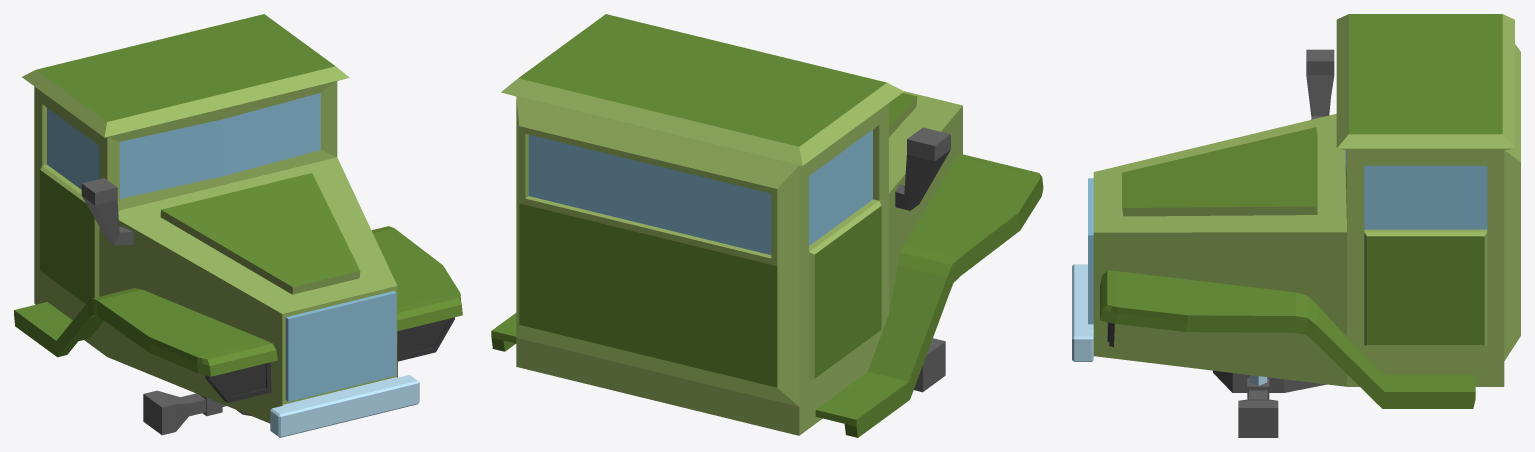
Rendered from ural4320_front_0.glb.
3 renders of one model, left to right at view 1: azimuth 30°, elevation 25°; view 2: azimuth 150°, elevation 25°; view 3: azimuth 270°, elevation 25°, orthographic. The views are drawn at different scales.
Parts seen in each view (by area): view 1: Cube, Cube.001, Cube.003, Cube.005, Cube.002, Cylinder.004, Cube.006; view 2: Cube, Cube.001, Cube.006, Cylinder.004; view 3: Cube, Cube.001, Cylinder.004, Cube.005, Cube.006, Cube.003.
Boxes of the visible parts, <box> form: Cube: <box>22,14,397,423</box>; Cube.001: <box>14,226,462,376</box>; Cube.003: <box>285,291,396,401</box>; Cube.005: <box>270,375,419,437</box>; Cube.002: <box>205,317,454,402</box>; Cylinder.004: <box>143,361,397,435</box>; Cube.006: <box>81,178,133,245</box>; Cube: <box>501,14,962,435</box>; Cube.001: <box>491,153,1043,437</box>; Cube.006: <box>895,127,950,210</box>; Cylinder.004: <box>914,338,945,392</box>; Cube: <box>1093,14,1520,386</box>; Cube.001: <box>1100,270,1475,408</box>; Cylinder.004: <box>1213,370,1326,437</box>; Cube.005: <box>1072,264,1093,361</box>; Cube.006: <box>1306,49,1334,119</box>; Cube.003: <box>1088,178,1093,324</box>.
Size of the model in its own units: 1.16 by 1.07 by 1.4.
2 materials, 2 textured.
